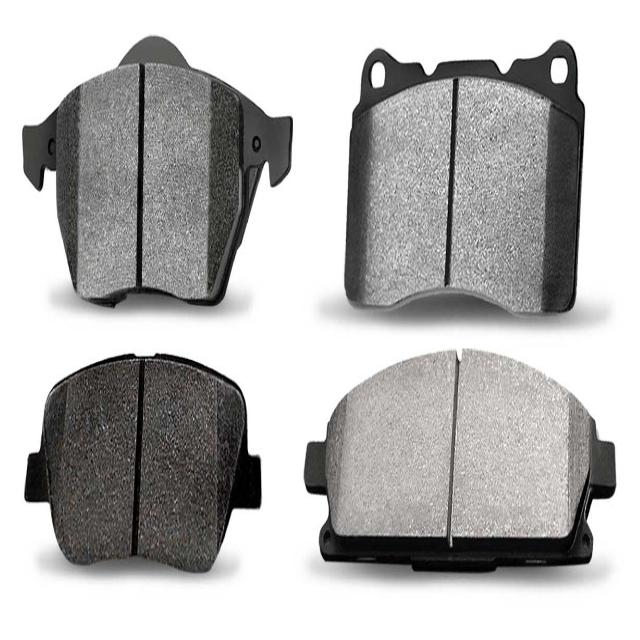brake_pad: (13, 31, 302, 316), (302, 339, 622, 583), (347, 41, 588, 325), (20, 354, 274, 580)
